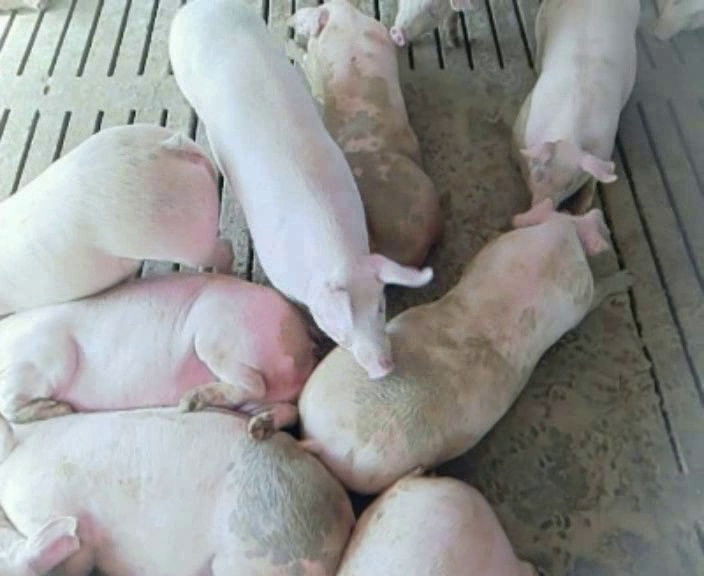pig: (299, 199, 633, 492), (170, 4, 431, 377), (0, 274, 314, 437), (0, 125, 231, 314), (282, 1, 441, 265), (514, 2, 639, 214), (337, 476, 534, 574)
